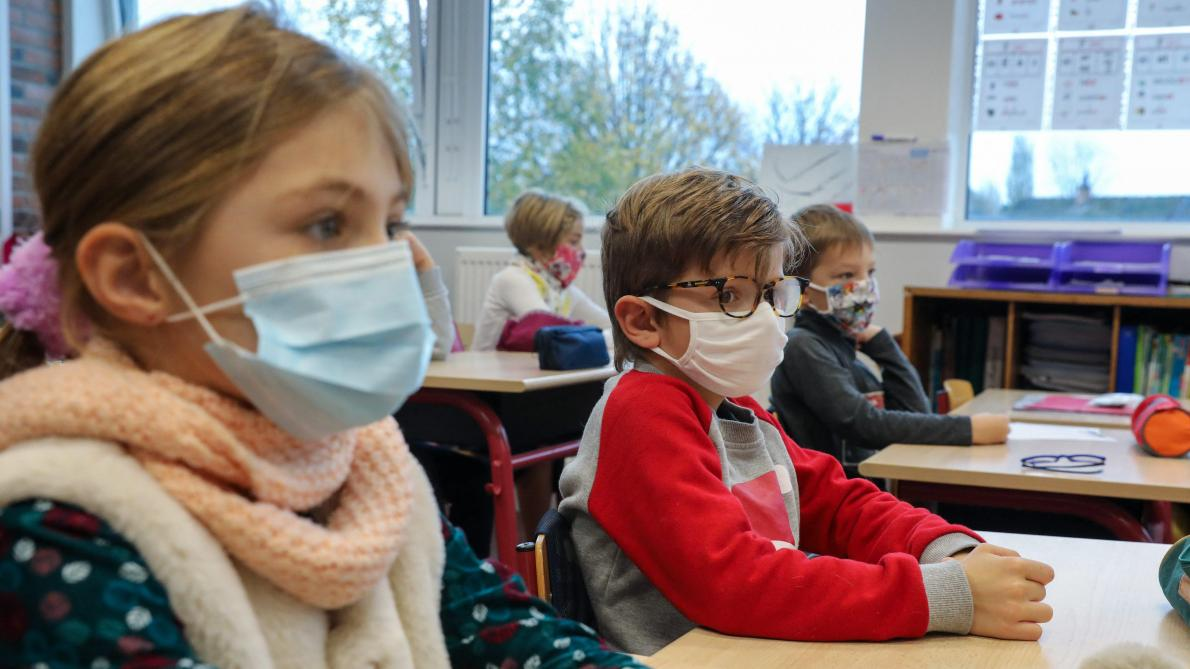with_mask: (198, 131, 438, 438), (643, 229, 803, 390), (797, 229, 884, 340), (532, 212, 587, 289)
